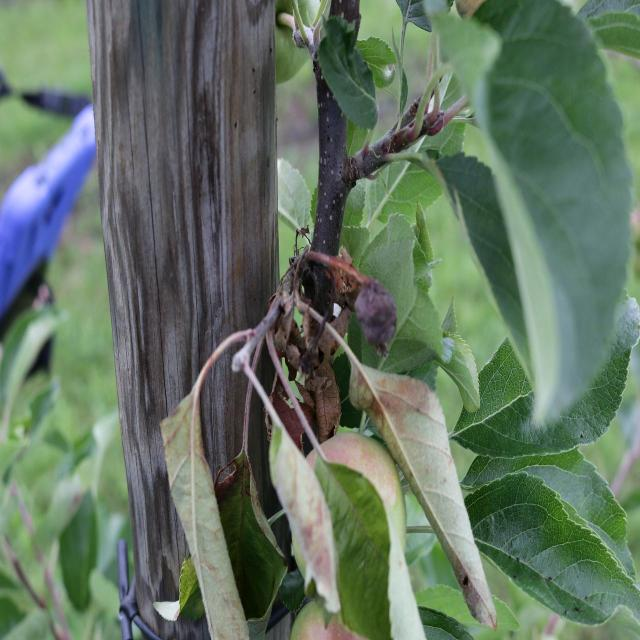-FireBlight-: (267, 238, 400, 430)
